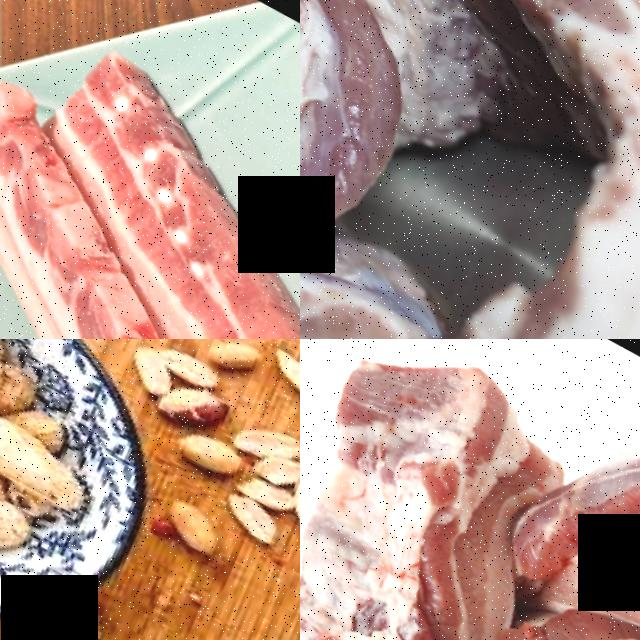peanuts: (0, 391, 94, 511), (164, 415, 250, 483), (146, 488, 224, 555)
pork belly: (300, 0, 640, 339), (300, 339, 595, 640), (7, 32, 213, 242), (481, 378, 640, 640), (76, 189, 300, 339), (0, 81, 100, 277), (416, 554, 640, 640), (0, 225, 160, 339)
